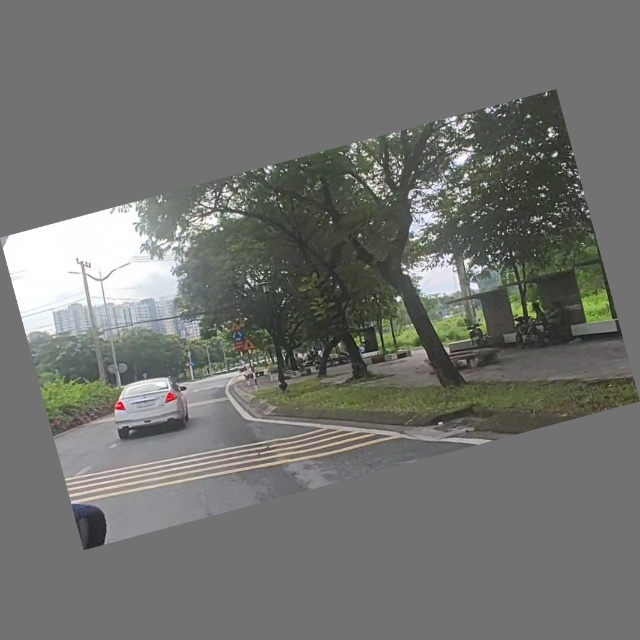P.102: (184, 362, 190, 368)
R.302a: (189, 361, 196, 368)
R.303: (230, 331, 245, 344)
W.207: (240, 337, 259, 353)
W.224: (228, 320, 241, 333)
